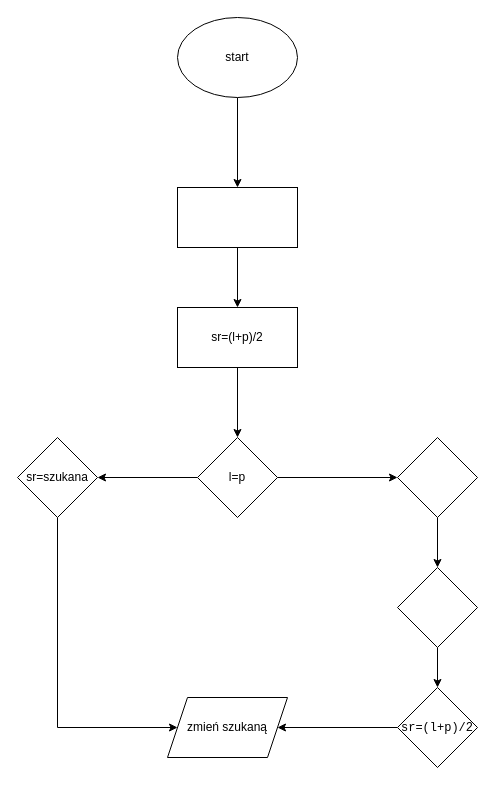
The diagram is 495 pixels wide and 785 high, and some of its shapes have lost their labels. Here are the shapes that lost their labels. From the top down, the box of each, then its label:
(176, 186, 298, 248): l =0 p=15
(396, 436, 478, 518): sr>szukana sr-1=p
(396, 566, 478, 648): sr>szukana sr+1=l
